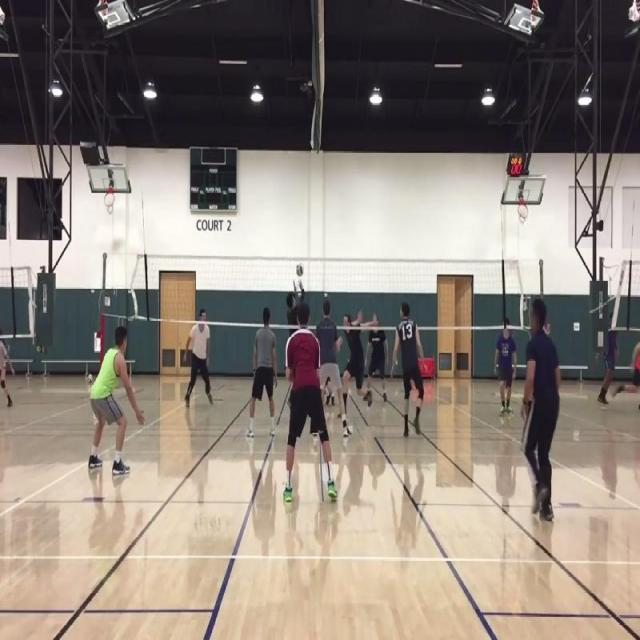volleyball: (296, 262, 304, 276)
